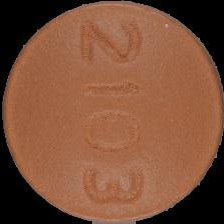63187-155: (0, 0, 224, 224)
